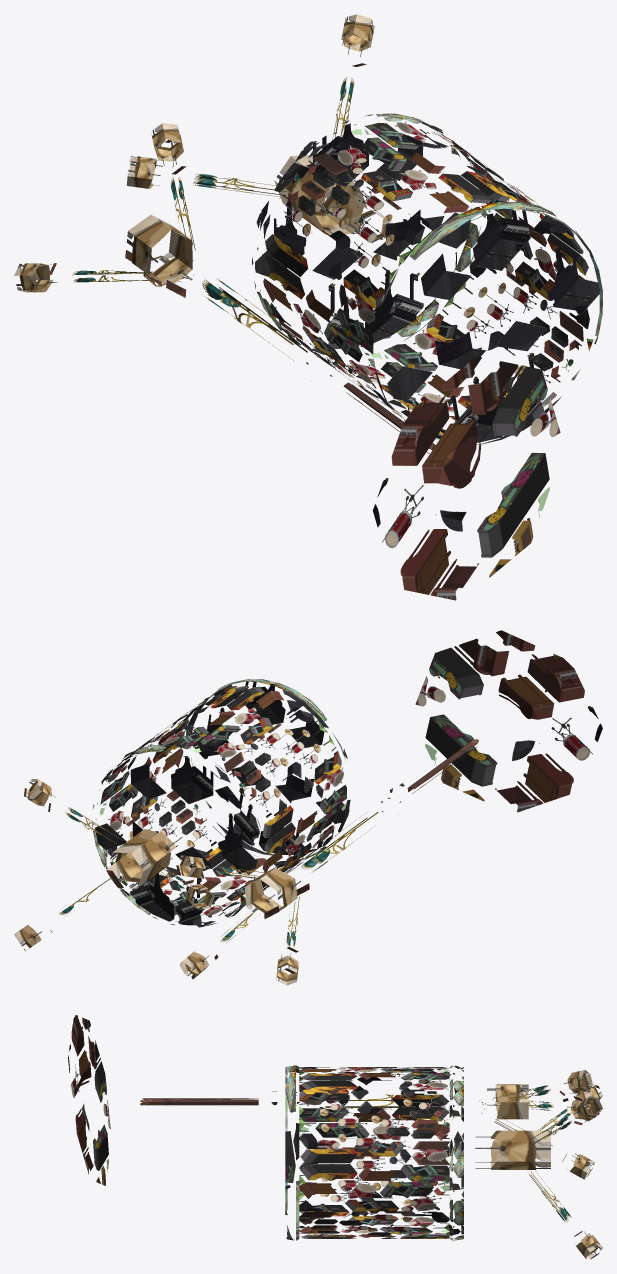
3 renders of one model, top to bottom at view 1: azimuth 30°, elevation 25°; view 2: azimuth 150°, elevation 25°; view 3: azimuth 270°, elevation 25°, orthographic. The views are drawn at different scales.
Size of the model in its own units: 0.9023 by 0.5419 by 1.69.
